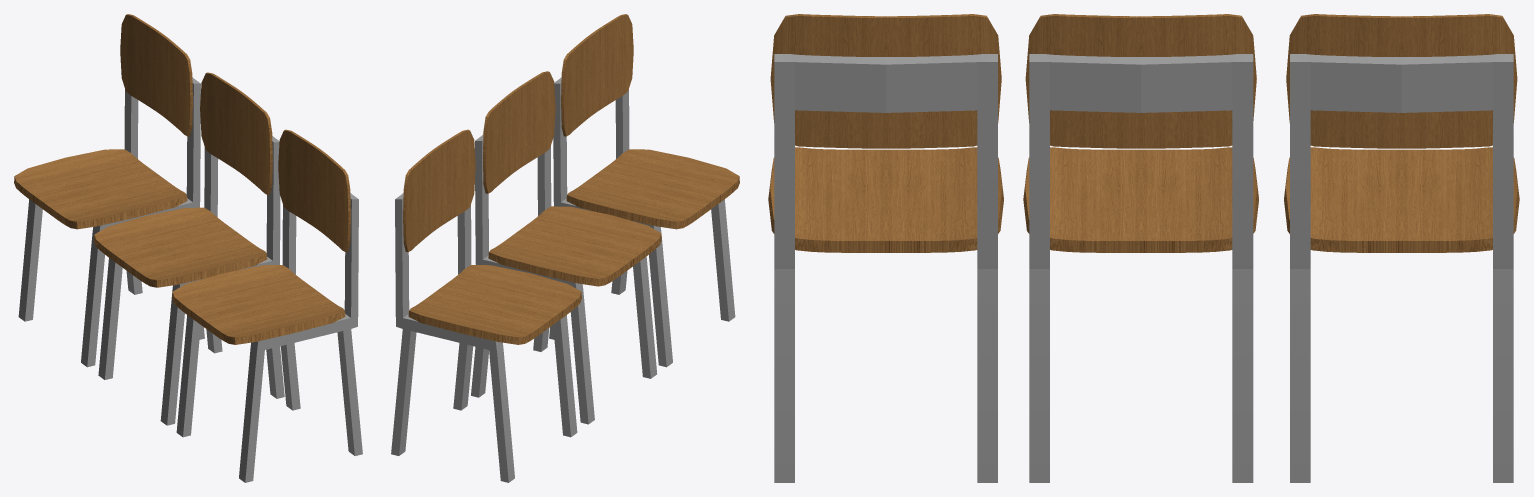
The model's file is SillasT_DerDos.obj.
The picture shows the model from 3 angles, left to right: view 1: azimuth 30°, elevation 25°; view 2: azimuth 150°, elevation 25°; view 3: azimuth 270°, elevation 25°; orthographic projection. The views are drawn at different scales.
Parts seen in each view (by area): view 1: pasted__pasted__CubeFBXASC046001; view 2: pasted__pasted__CubeFBXASC046001; view 3: pasted__pasted__CubeFBXASC046001.
Part boxes in pixels (x1,y1,x2,y2): pasted__pasted__CubeFBXASC046001: (14, 14, 362, 482); pasted__pasted__CubeFBXASC046001: (391, 14, 739, 482); pasted__pasted__CubeFBXASC046001: (768, 14, 1519, 482).
Bounding box in the file's own units: 0.8412 × 1.78 × 2.64.
Materials: 6 (6 with a texture image).
